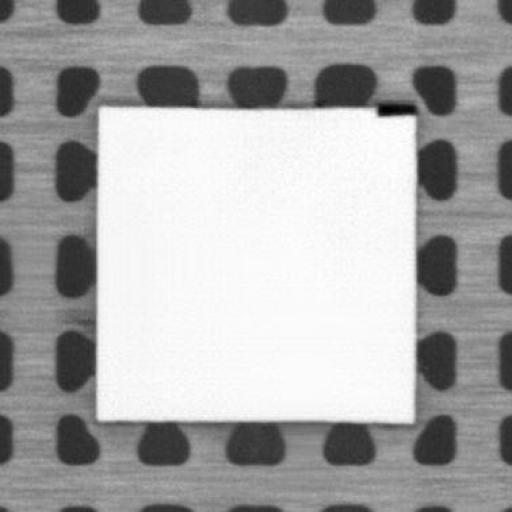DIE_BROKEN: (372, 100, 418, 116)
